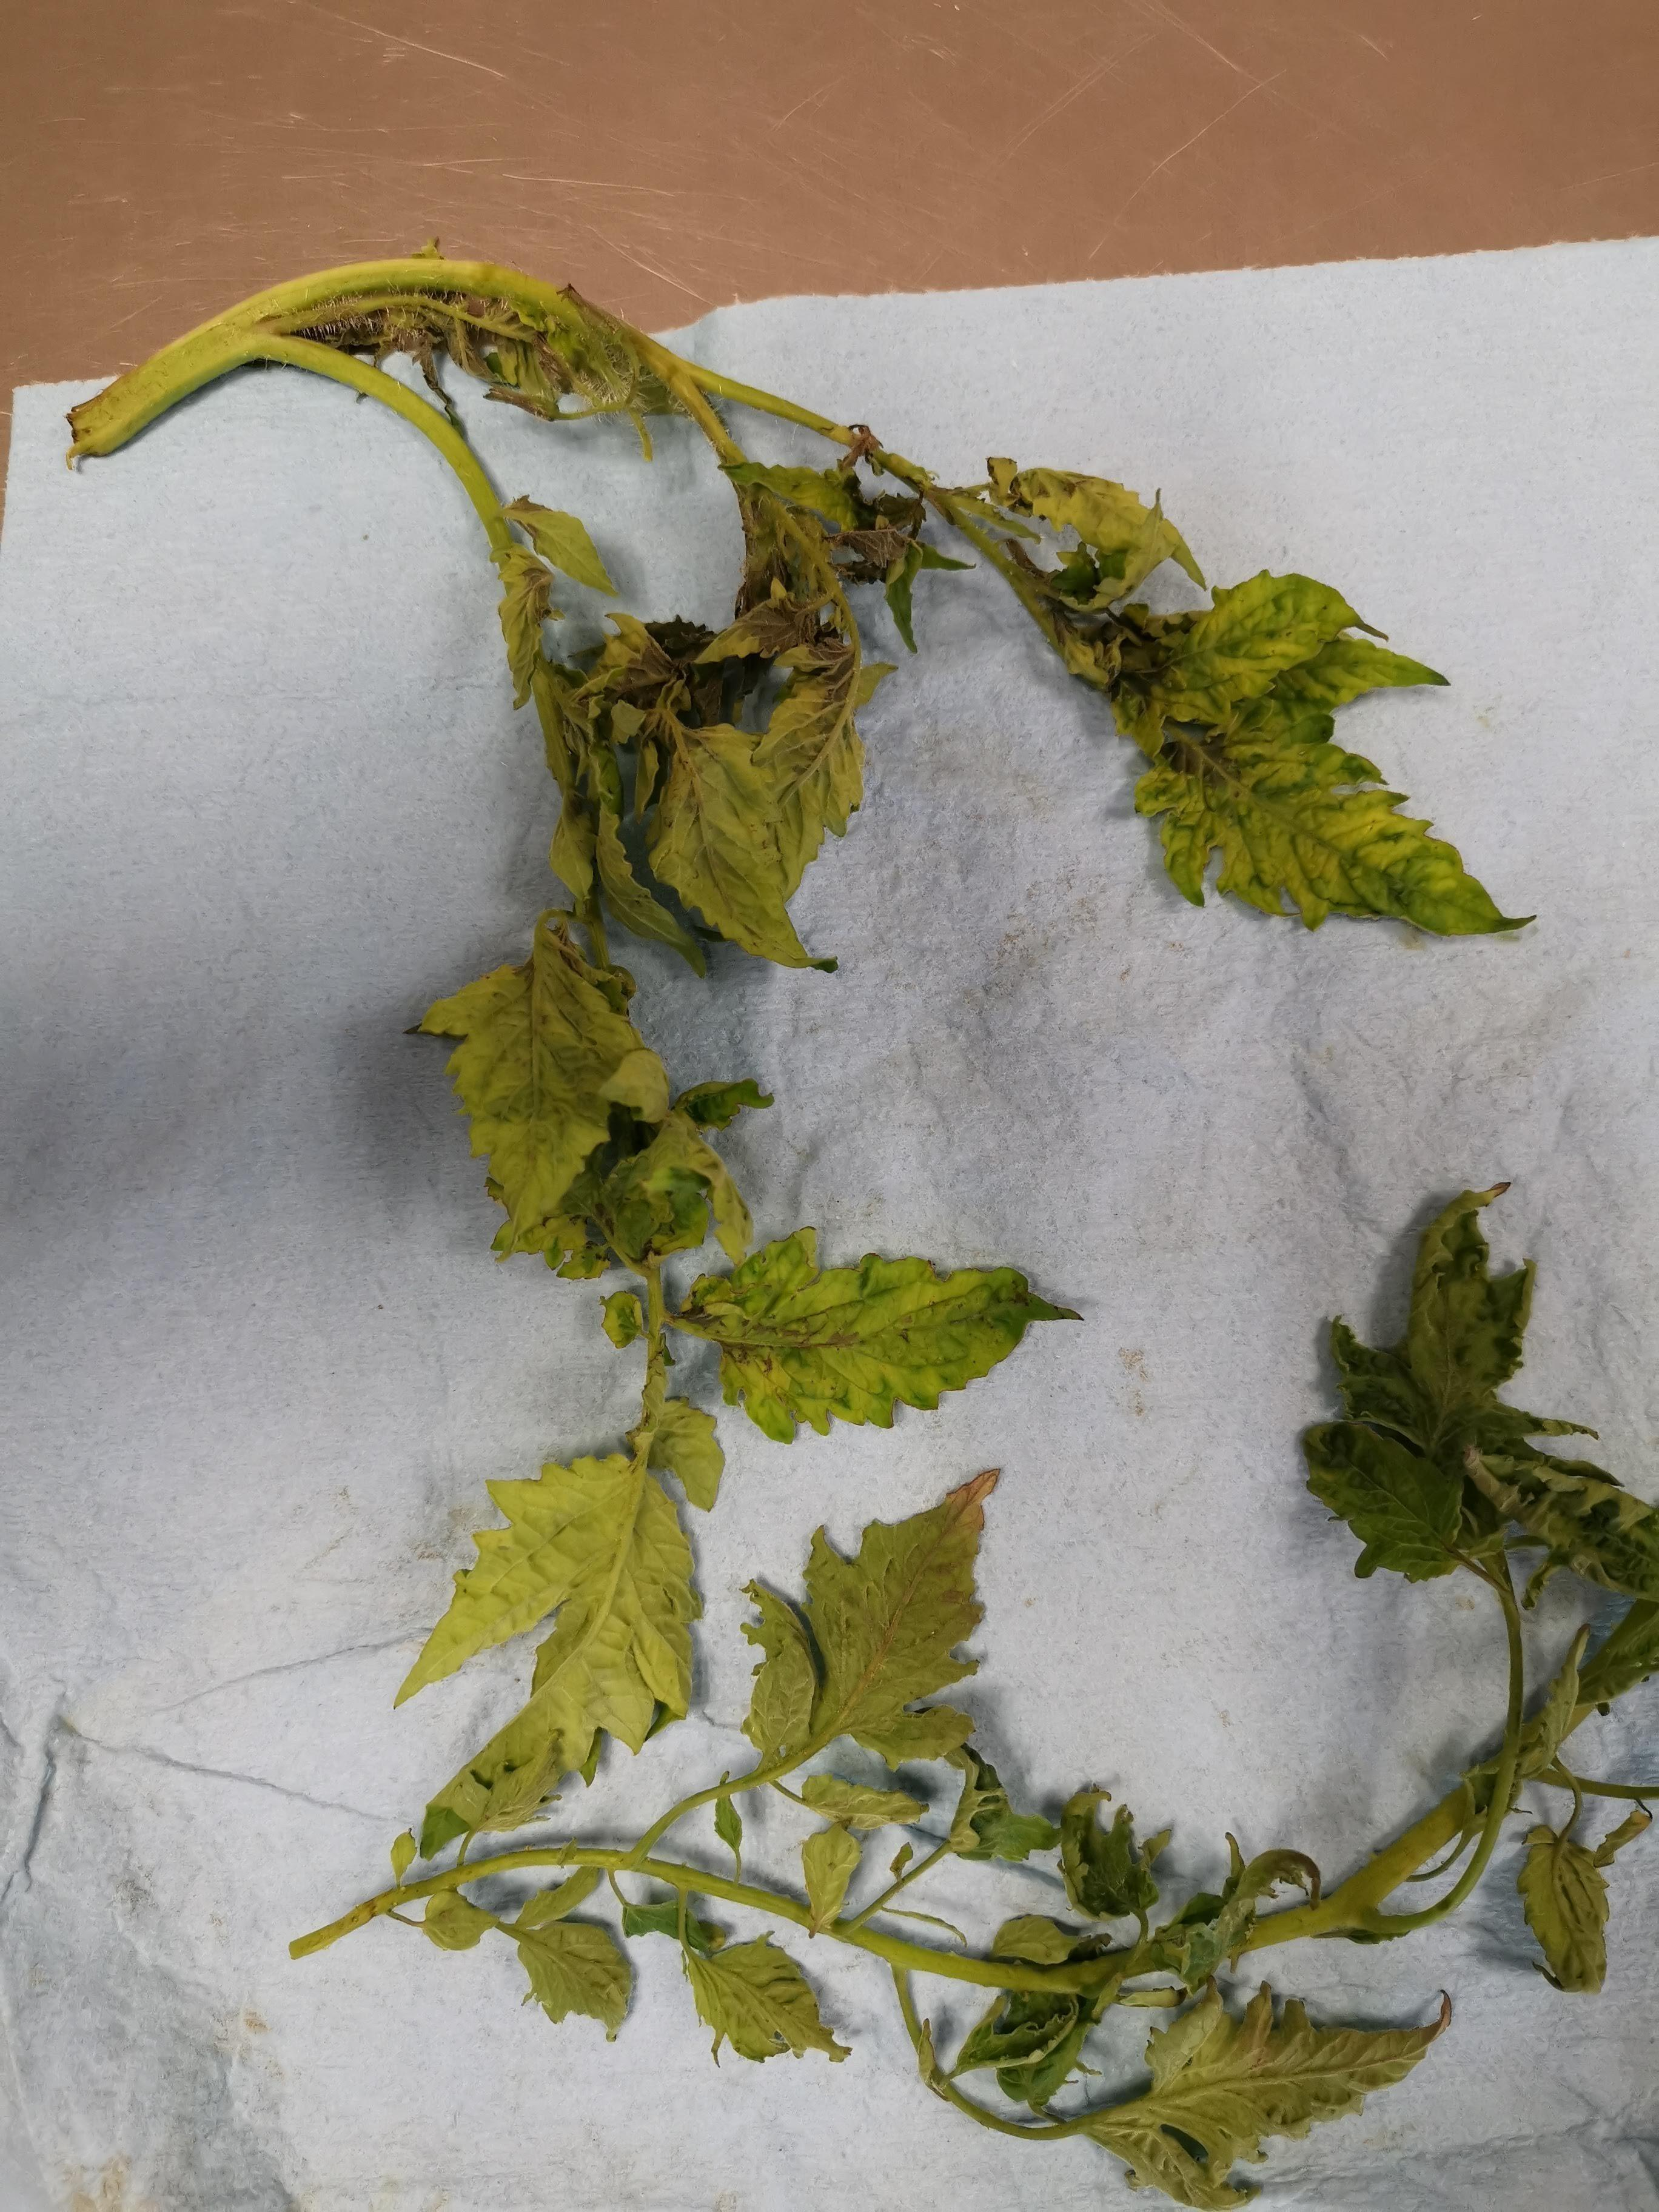Hoja rugoso: (397, 1456, 701, 1858), (1136, 683, 1525, 934), (1066, 1956, 1434, 2207), (674, 1226, 1075, 1442), (418, 911, 648, 1252), (1331, 1184, 1589, 1474), (760, 1512, 979, 1763), (648, 712, 809, 963), (751, 636, 890, 894), (1154, 575, 1361, 721), (1464, 1447, 1659, 1599), (1305, 1421, 1460, 1581), (683, 1940, 847, 2060), (640, 1109, 751, 1261), (1058, 1789, 1171, 1935), (502, 1923, 631, 2040), (1516, 1827, 1607, 1991), (990, 467, 1154, 554), (946, 1745, 1058, 1862), (1270, 636, 1448, 709), (1049, 510, 1175, 610), (502, 496, 613, 596), (955, 1991, 1084, 2074), (497, 545, 552, 704), (648, 1400, 725, 1508), (800, 1775, 925, 1827), (803, 1824, 859, 1932), (514, 1867, 605, 1926), (418, 1888, 497, 1952), (993, 1914, 1084, 1966)
Pedunculo rugoso: (207, 260, 850, 444), (70, 324, 514, 561), (1364, 1573, 1525, 1935), (1244, 1784, 1481, 1949), (894, 1966, 1075, 2139), (484, 1844, 809, 1923), (833, 1923, 1107, 1991), (289, 1867, 484, 1958), (634, 1763, 795, 1858), (850, 1844, 950, 1926)
